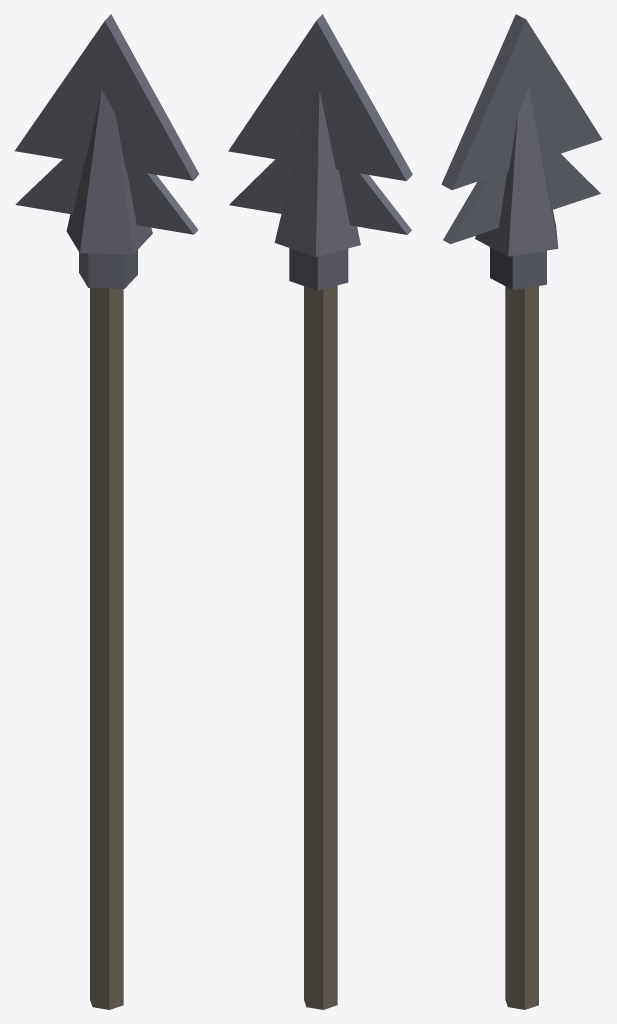
Rendered from _Arhers_shell_LVL_3.fbx.
The picture shows the model from 3 angles, left to right: view 1: azimuth 30°, elevation 25°; view 2: azimuth 210°, elevation 25°; view 3: azimuth 270°, elevation 25°; orthographic projection.
Visible parts, largest first — view 1: Archers_shell_LVL_3; view 2: Archers_shell_LVL_3; view 3: Archers_shell_LVL_3.
Boxes of the visible parts, x1,y1,x2,y2 form: Archers_shell_LVL_3: (15,14,199,1009); Archers_shell_LVL_3: (228,14,412,1009); Archers_shell_LVL_3: (441,14,602,1009).
Bounding box in the file's own units: 34.67 × 284 × 42.07.
